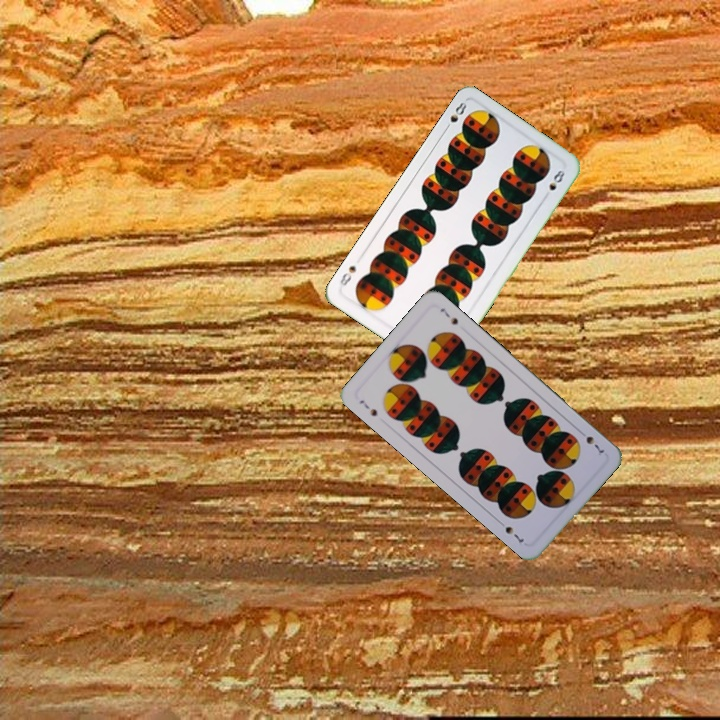S7: (575, 426, 607, 456), (355, 396, 380, 419)
S8: (440, 98, 469, 134)
